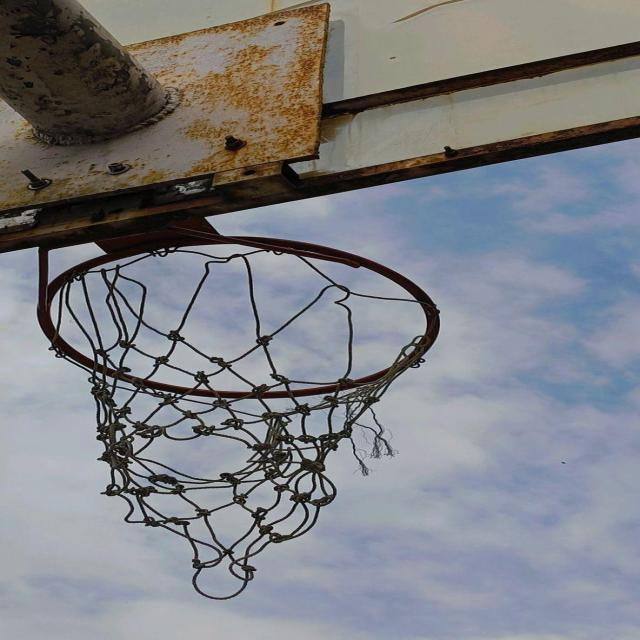hoop: (27, 219, 456, 599)
